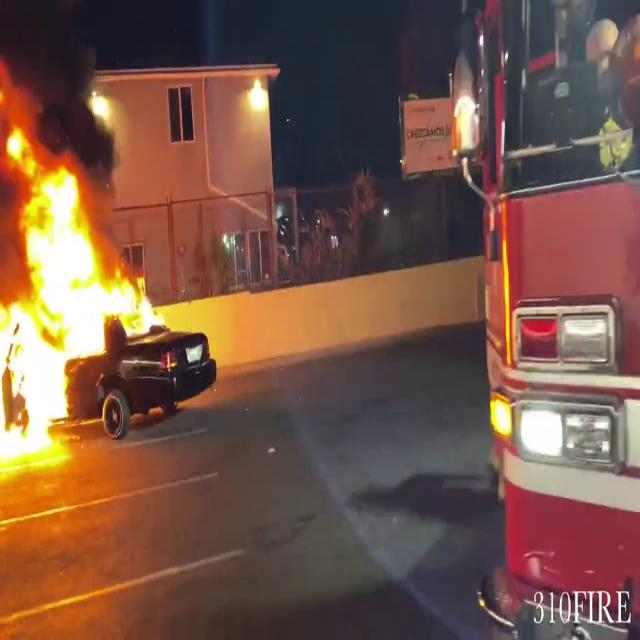Fire: (0, 94, 165, 470)
